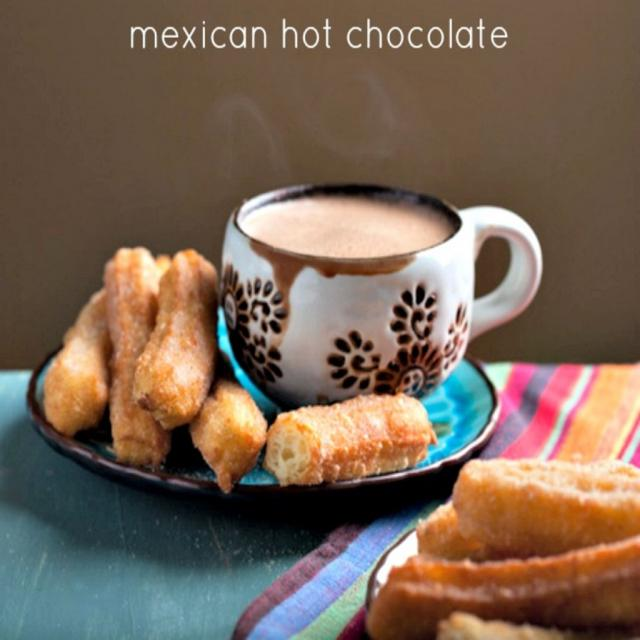Coffee: (239, 185, 452, 256)
Tea: (240, 194, 455, 253)
